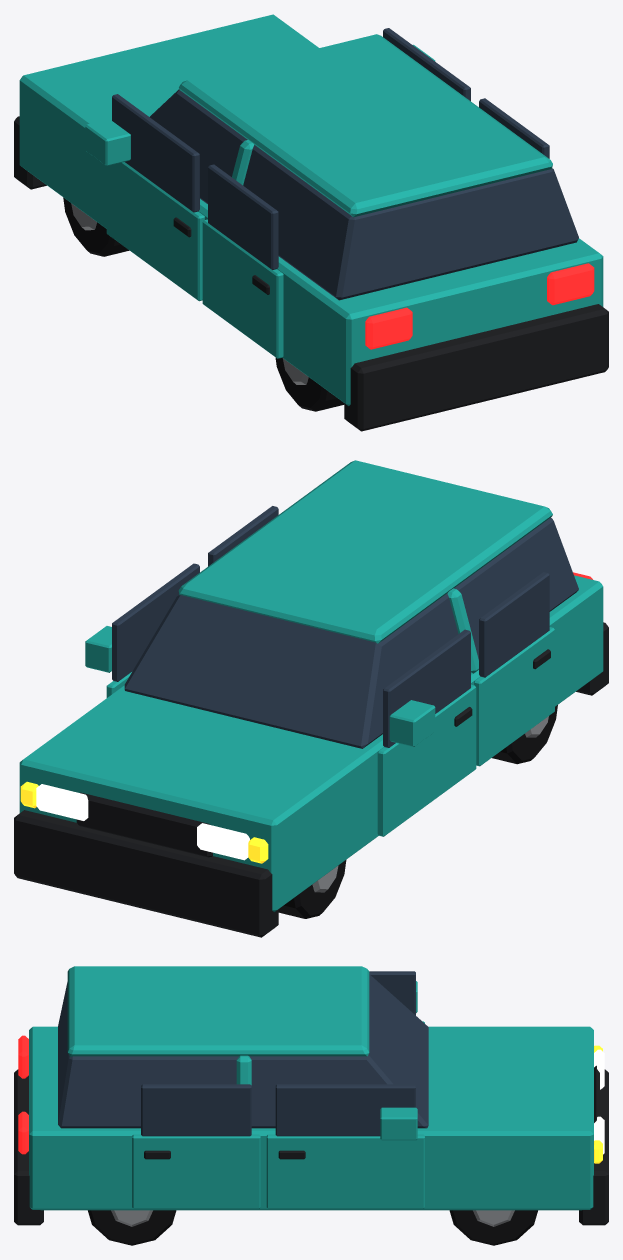
File: car_hatchback.glb
3 renders of one model, top to bottom at view 1: azimuth 30°, elevation 25°; view 2: azimuth 150°, elevation 25°; view 3: azimuth 270°, elevation 25°, orthographic. The views are drawn at different scales.
Visible parts, largest first — view 1: car_body, car_door_FL, car_door_RL, car_door_FR, car_door_RR; view 2: car_body, car_door_FL, car_door_RL, car_door_FR, car_door_RR; view 3: car_body, car_door_FR, car_door_RR, car_door_FL.
Boxes of the visible parts, x1,y1,x2,y2 form: car_body: (14,14,608,431); car_door_FL: (85,94,204,301); car_door_RL: (202,164,283,358); car_door_FR: (383,28,470,101); car_door_RR: (479,98,549,158); car_body: (14,460,608,937); car_door_FL: (377,629,476,836); car_door_RL: (474,572,554,766); car_door_FR: (85,563,199,697); car_door_RR: (208,506,278,566); car_body: (14,966,608,1245); car_door_FR: (266,1084,424,1208); car_door_RR: (132,1084,260,1208); car_door_FL: (369,971,424,1023).
Size of the model in its own units: 2.18 by 1.42 by 3.98.
